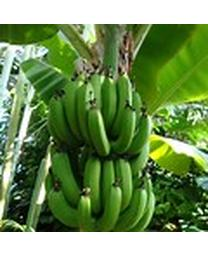banana: (45, 70, 155, 228)
